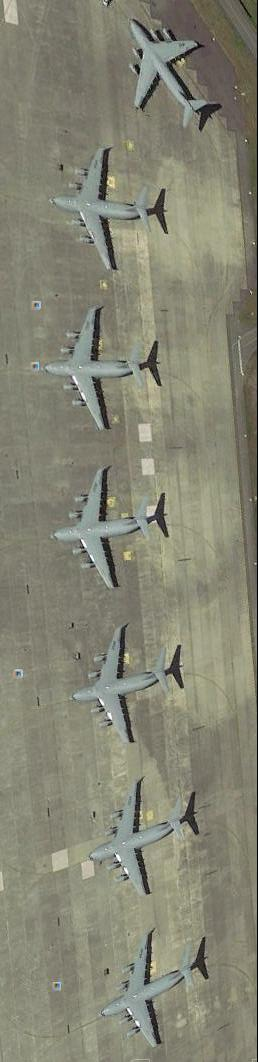C-17: (40, 307, 156, 432), (51, 467, 164, 594), (50, 147, 157, 277), (85, 777, 196, 902), (71, 626, 183, 745), (98, 935, 207, 1052), (122, 21, 212, 131)
